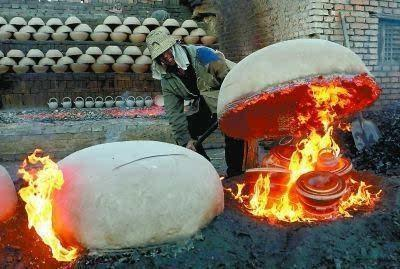fire: (245, 61, 384, 228), (7, 131, 100, 259)
